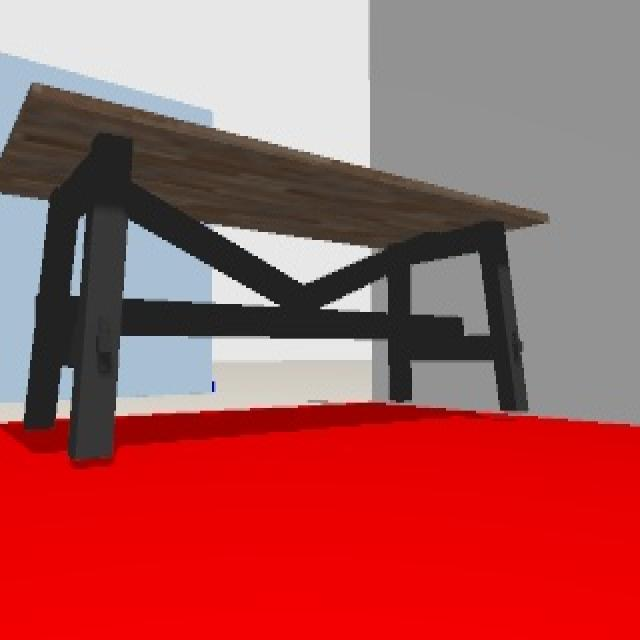dining: (3, 76, 543, 453)
